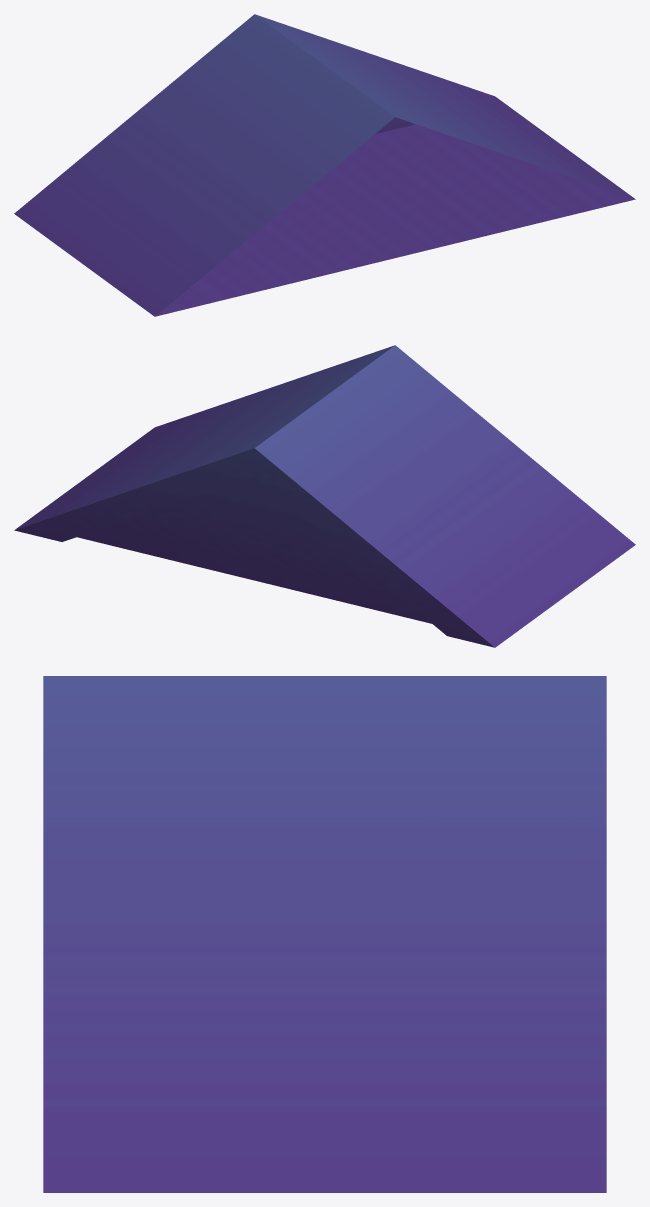
File: Roof.fbx
The picture shows the model from 3 angles, top to bottom: view 1: azimuth 30°, elevation 25°; view 2: azimuth 150°, elevation 25°; view 3: azimuth 270°, elevation 25°; orthographic projection. The views are drawn at different scales.
Parts seen in each view (by area): view 1: pPlane1; view 2: pPlane1; view 3: pPlane1.
Boxes of the visible parts, x1=… form: pPlane1: x1=14, y1=14, x2=635, y2=316; pPlane1: x1=14, y1=345, x2=635, y2=647; pPlane1: x1=43, y1=676, x2=606, y2=1192.
Bounding box in the file's own units: 70.71 × 19.79 × 35.84.
Materials: 1 (1 with a texture image).
